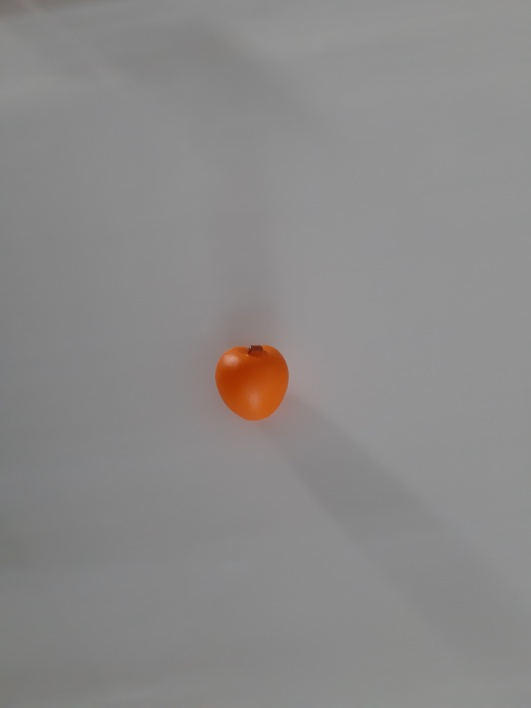apricot: (191, 327, 307, 438)
